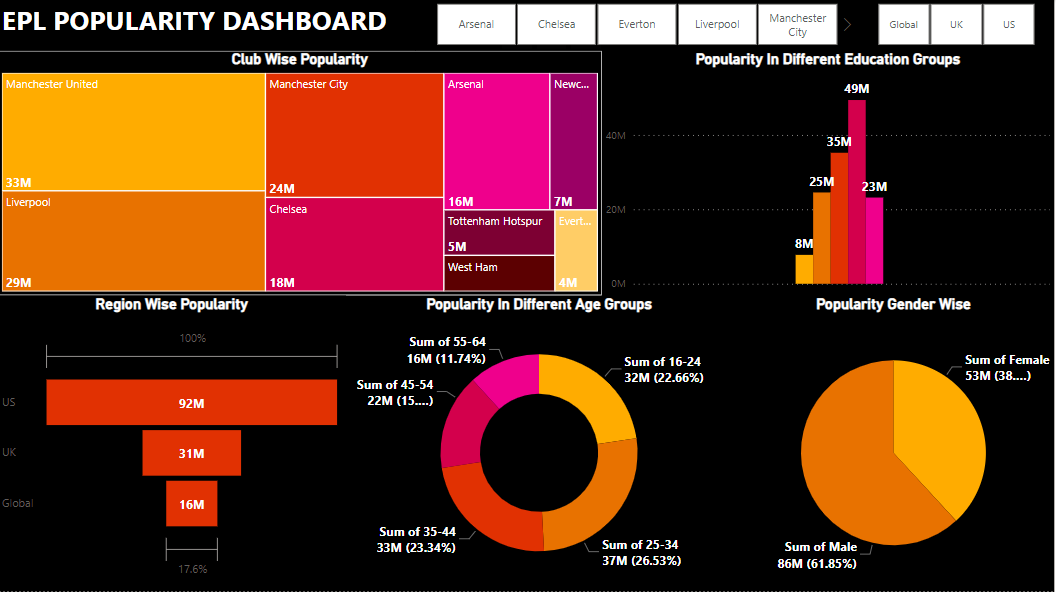

What the dashboard file says about the page in this screenshot:
{"tool":"powerbi","page":{"name":"EPL","canvas":[1280,720],"ordinal":0},"visuals":[{"type":"treemap","title":"Club Wise Popularity","fields":{"Group":["EPLDATA.Teams"],"Values":["Sum(EPLDATA.Total  Fanbase)"]},"box":[0,63.6,731.8,297],"z":0},{"type":"donutChart","title":"Popularity In Different Age Groups","fields":{"Y":["Sum(EPLDATA.16-24)","Sum(EPLDATA.25-34)","Sum(EPLDATA.35-44)","Sum(EPLDATA.45-54)","Sum(EPLDATA.55-64)"]},"box":[420.8,360.7,469.5,359.3],"z":1000},{"type":"pieChart","title":"Popularity Gender Wise","fields":{"Y":["Sum(EPLDATA.Female)","Sum(EPLDATA.Male)"]},"box":[890.3,360.7,389.3,359.3],"z":2000},{"type":"clusteredColumnChart","title":"Popularity In Different Education Groups","fields":{"Y":["Sum(EPLDATA.Lower secondary education)","Sum(EPLDATA.Post-secondary vocational education)","Sum(EPLDATA.Upper secondary education)","Sum(EPLDATA.Undergraduate degree)","Sum(EPLDATA.Postgraduate degree )"]},"box":[731.8,63.6,548.5,297],"z":3000},{"type":"funnel","title":"Region Wise Popularity","fields":{"Category":["EPLDATA.Region"],"Y":["Sum(EPLDATA.Total  Fanbase)"]},"box":[0,360.6,421.2,359.1],"z":4000},{"type":"slicer","fields":{"Values":["EPLDATA.Region"]},"box":[1040.9,0,239.4,63.6],"z":5000},{"type":"slicer","fields":{"Values":["EPLDATA.Teams"]},"box":[506.1,0,534.9,63.6],"z":6000},{"type":"textbox","box":[0,0,506.1,63.6],"z":7000}]}

Visuals, with their boxes in screenshot pixels (x1, y1, x2, y2), scaled from the page's 1280x720 canvas onto the 1056x592 screenshot:
"Club Wise Popularity" treemap: bbox=(0, 52, 604, 296)
"Popularity In Different Age Groups" donutChart: bbox=(347, 297, 734, 591)
"Popularity Gender Wise" pieChart: bbox=(734, 297, 1055, 591)
"Popularity In Different Education Groups" clusteredColumnChart: bbox=(604, 52, 1055, 296)
"Region Wise Popularity" funnel: bbox=(0, 296, 347, 591)
slicer - EPLDATA.Region: bbox=(859, 0, 1055, 52)
slicer - EPLDATA.Teams: bbox=(418, 0, 859, 52)
textbox: bbox=(0, 0, 418, 52)
